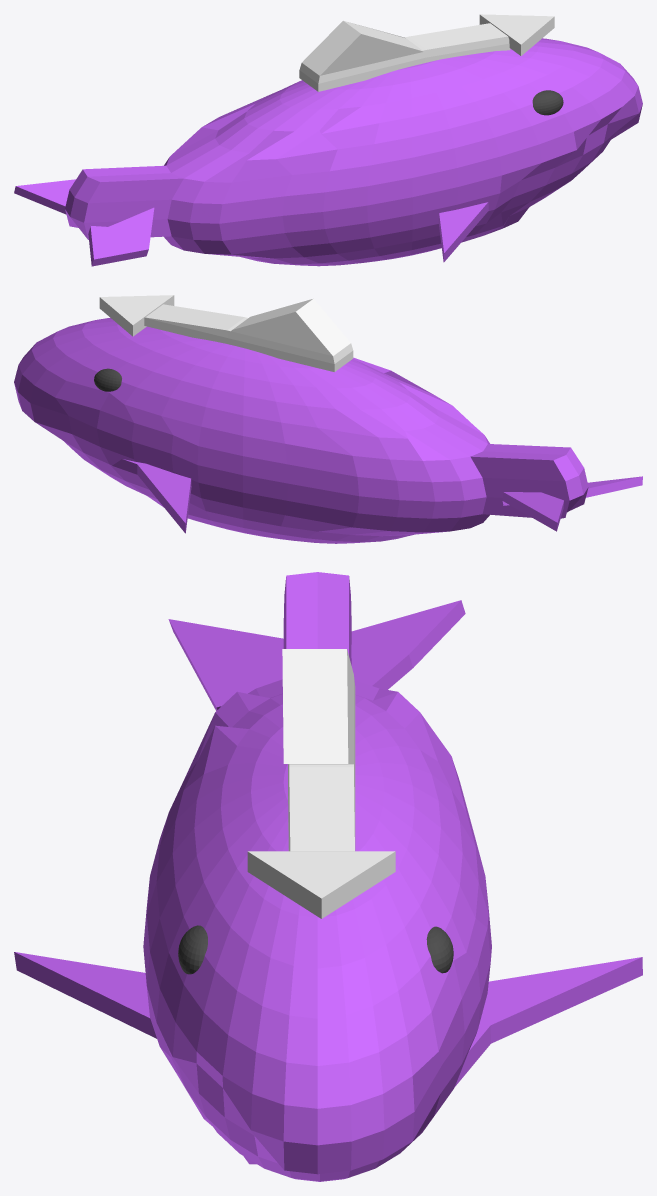
The model's file is SharkPurple.fbx.
3 views of the same model, one above another, from view 1: azimuth 30°, elevation 25°; view 2: azimuth 150°, elevation 25°; view 3: azimuth 270°, elevation 25° (orthographic). The views are drawn at different scales.
Visible parts, largest first — view 1: Shark; view 2: Shark; view 3: Shark.
Part boxes in pixels (<box>): Shark: <box>14,14,642,266</box>; Shark: <box>14,295,642,543</box>; Shark: <box>14,572,642,1181</box>.
Size of the model in its own units: 799 by 303 by 416.
